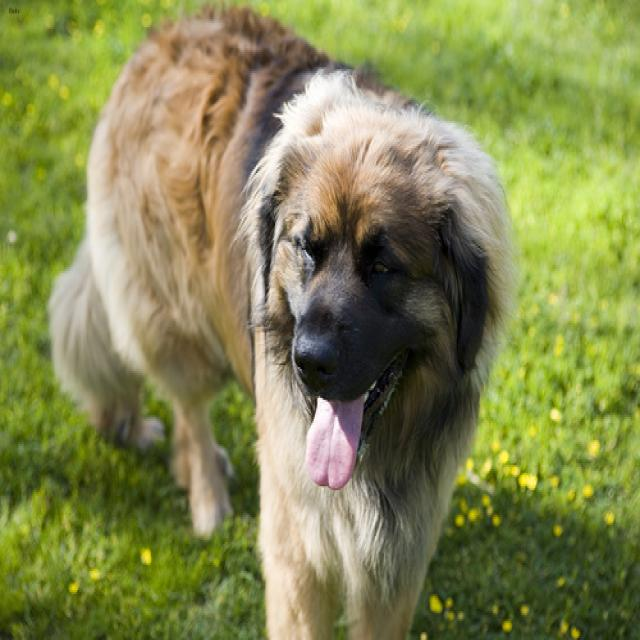dog-leonberger: (38, 2, 525, 636)
